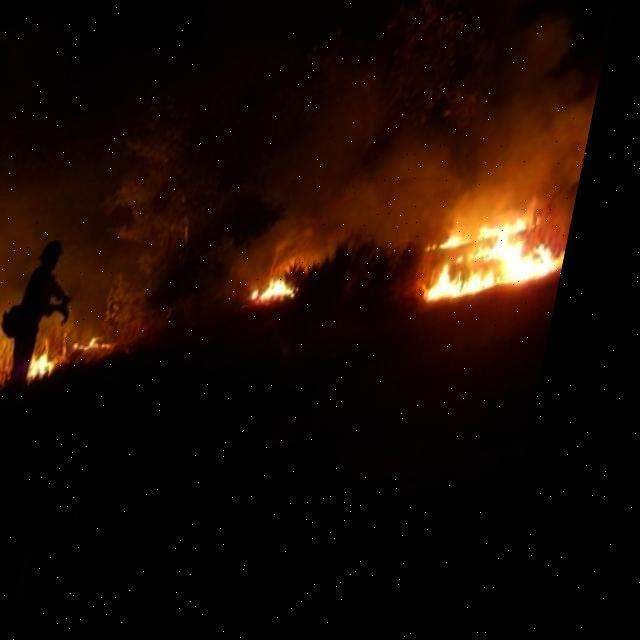Fire: (434, 208, 590, 339), (0, 320, 119, 404), (259, 262, 327, 337)
